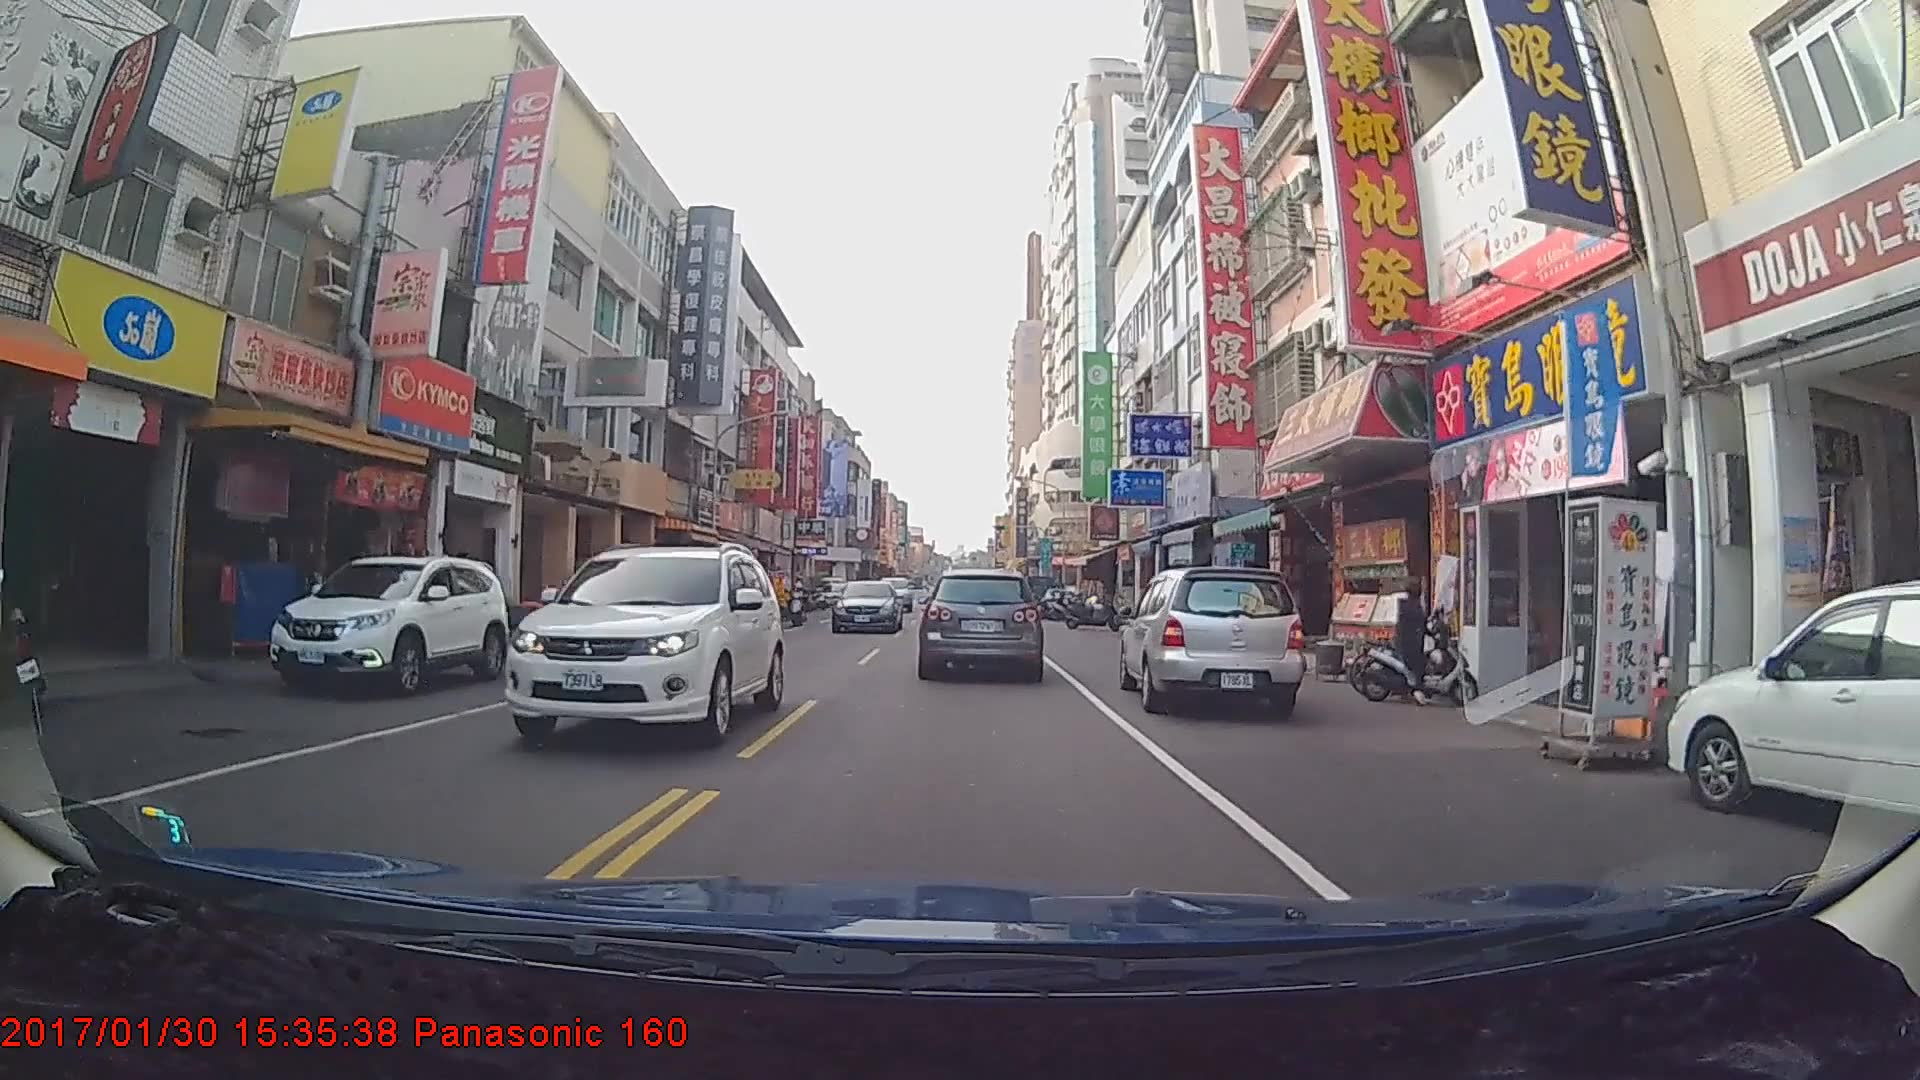rider: (1357, 575, 1488, 715)
vehicle: (1670, 574, 1920, 870), (501, 545, 783, 754), (268, 553, 508, 699), (1118, 564, 1307, 721), (921, 566, 1042, 680), (828, 577, 903, 634)
